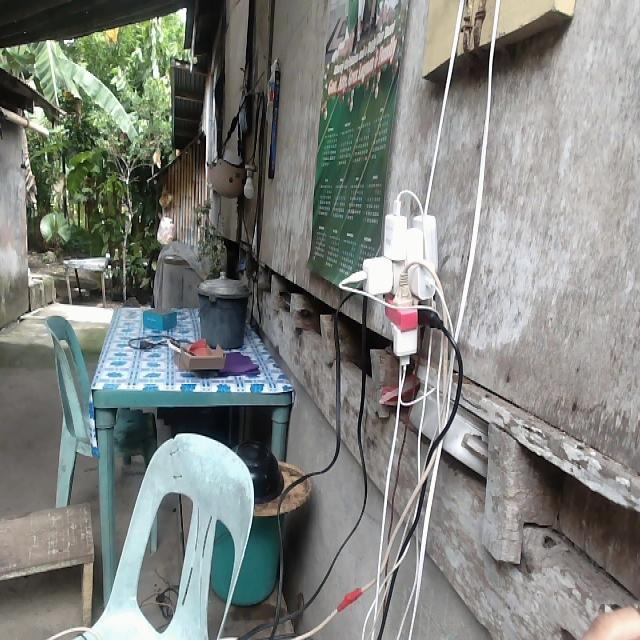-: (337, 188, 442, 372)
